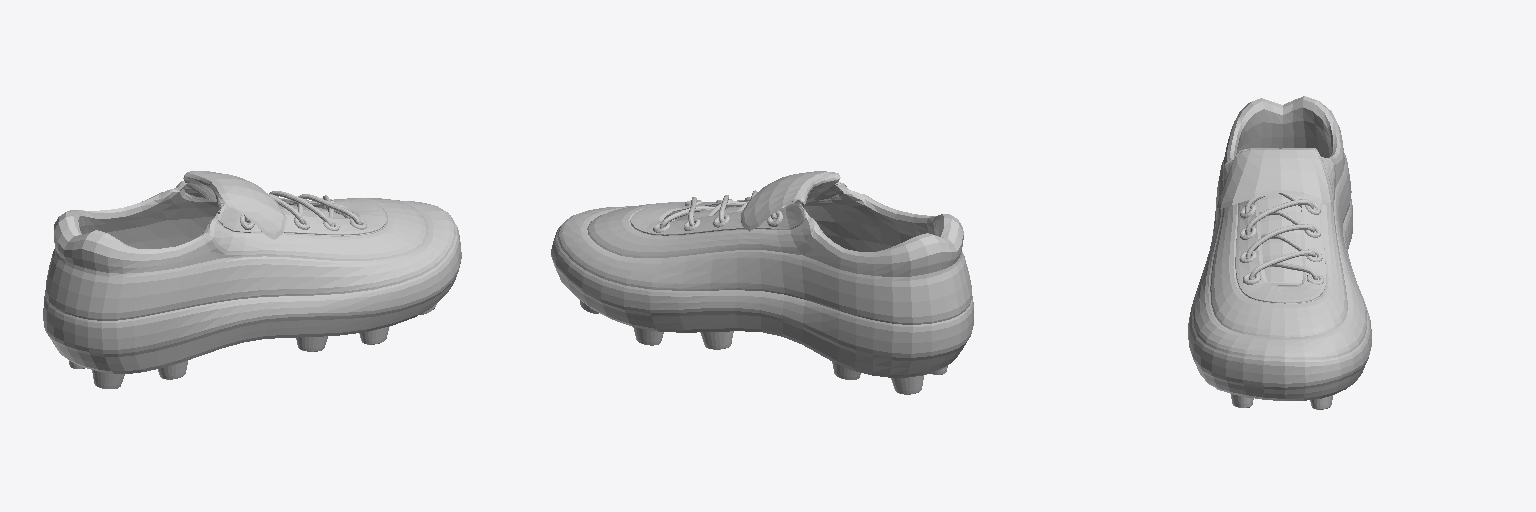
The model's file is footballBoot2.obj.
3 renders of one model, left to right at view 1: azimuth 30°, elevation 25°; view 2: azimuth 150°, elevation 25°; view 3: azimuth 270°, elevation 25°, orthographic.
Visible parts, largest first — view 1: chuteira; view 2: chuteira; view 3: chuteira.
Boxes of the visible parts, x1,y1,x2,y2 form: chuteira: [43, 171, 461, 388]; chuteira: [551, 171, 973, 394]; chuteira: [1188, 96, 1371, 409].
Size of the model in its own units: 11.98 by 4.92 by 4.76.